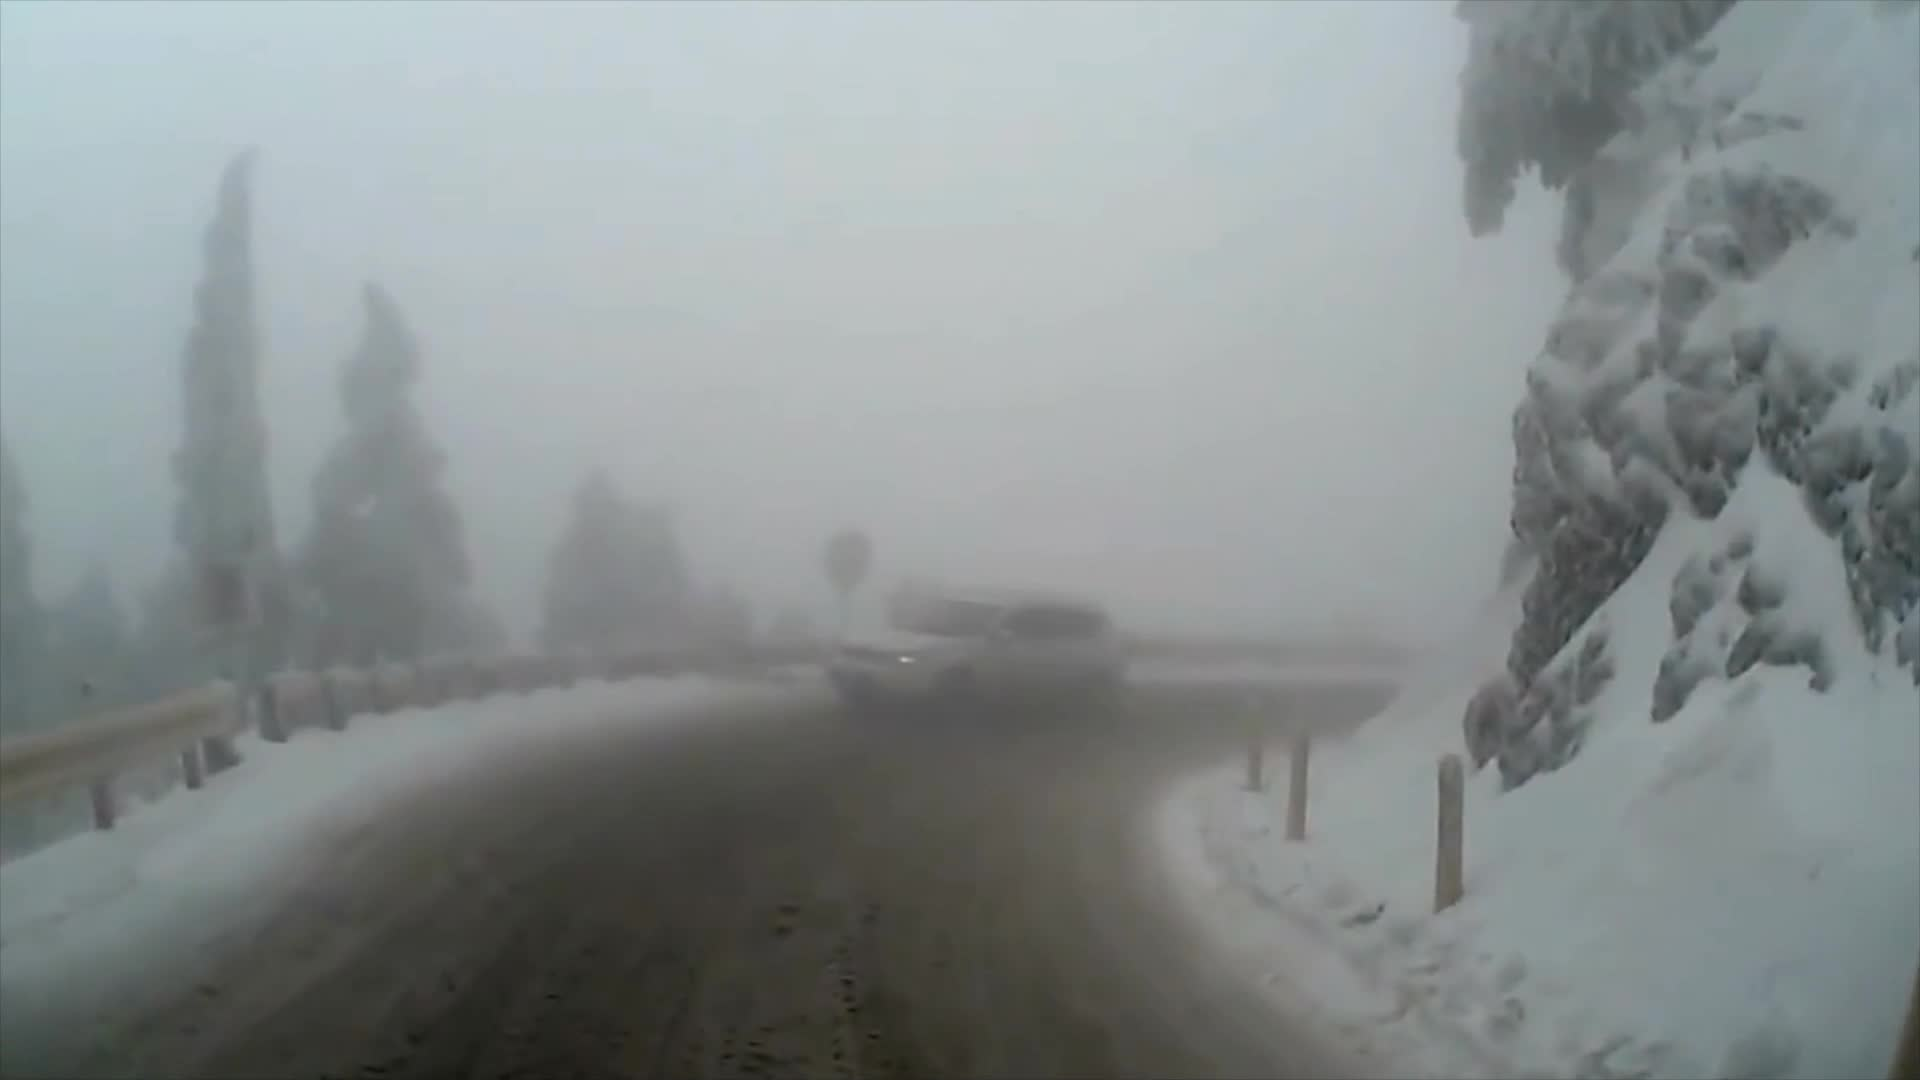vehicle: (825, 589, 1122, 741)
